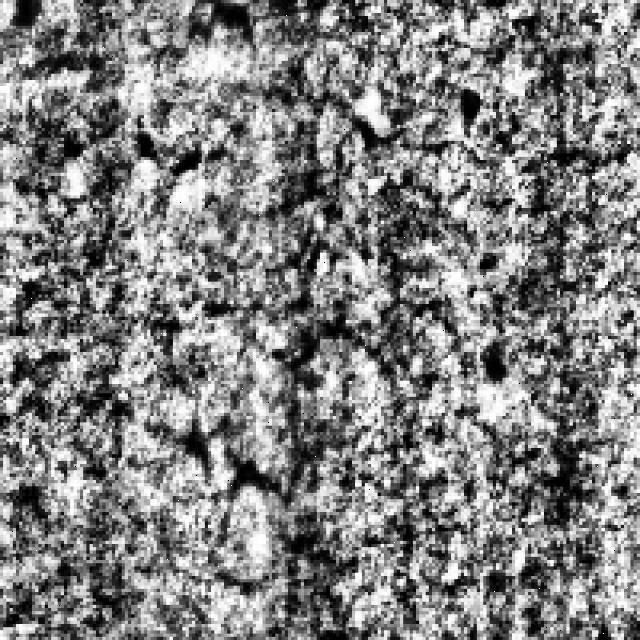Pitted_Surface: (131, 74, 602, 224), (156, 288, 404, 499)
